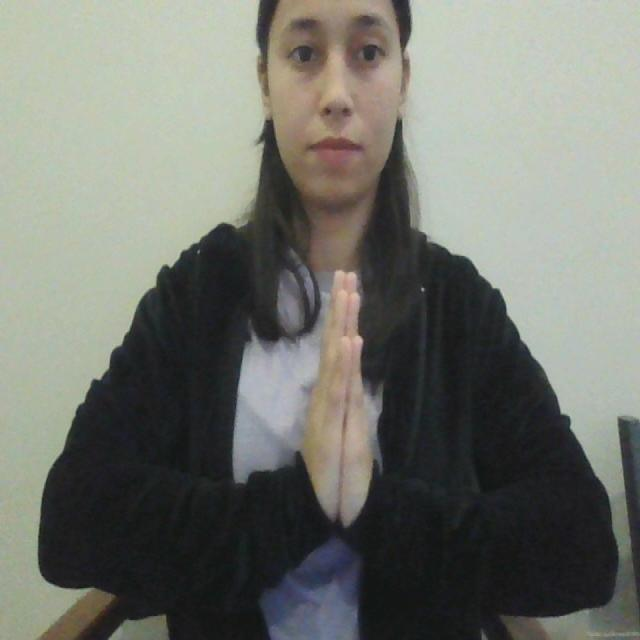Ozur-Dilemek: (302, 264, 382, 532)
